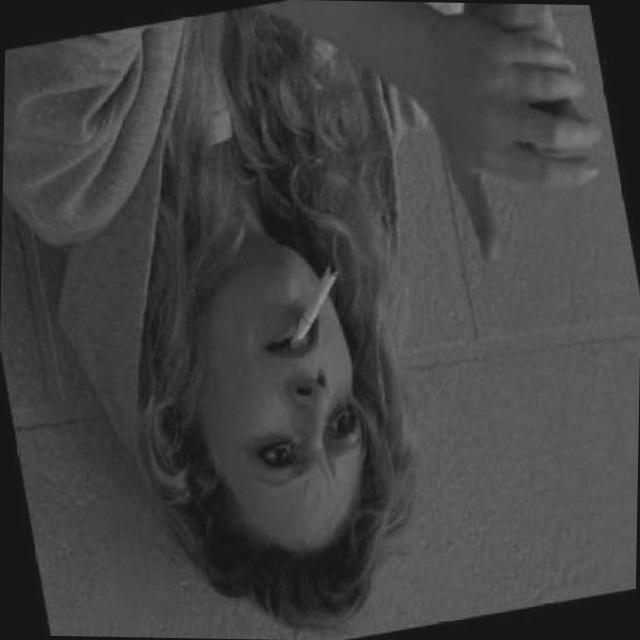smoke: (262, 258, 353, 360)
